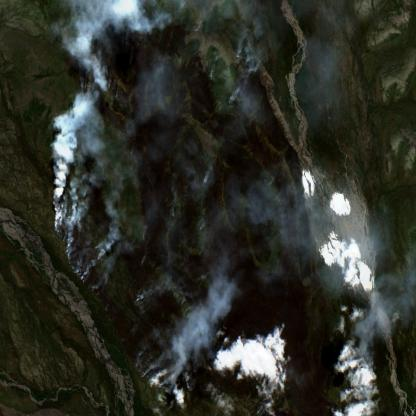fire: (45, 0, 372, 416)
